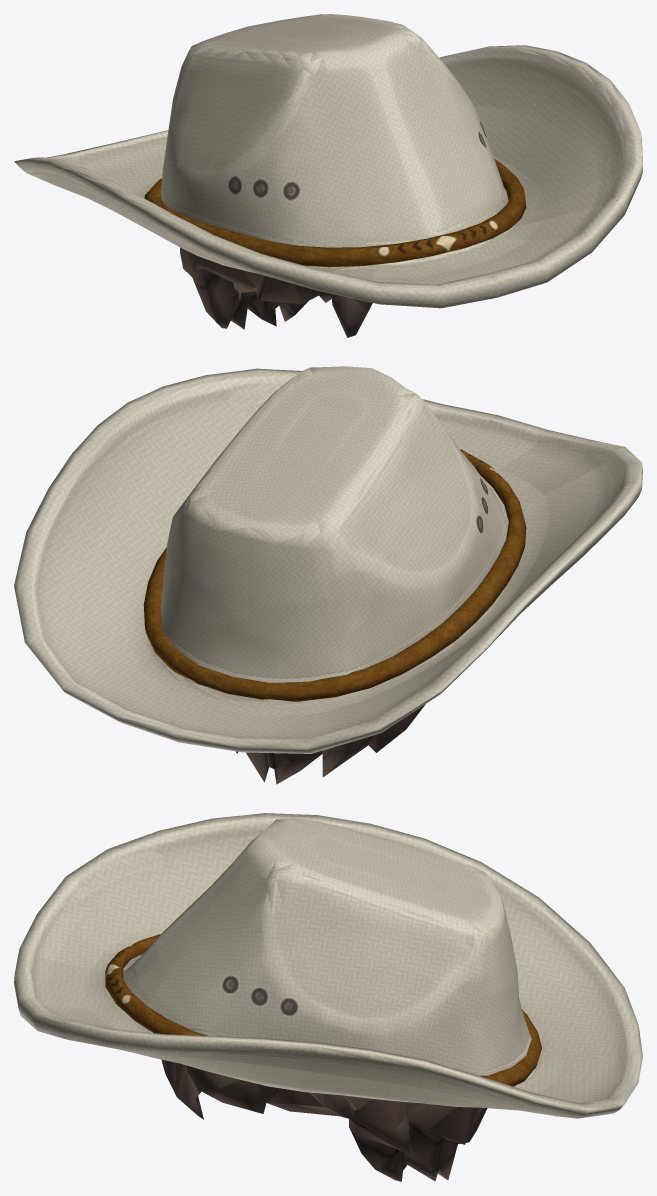
3 views of the same model, one above another, from view 1: azimuth 30°, elevation 25°; view 2: azimuth 150°, elevation 25°; view 3: azimuth 270°, elevation 25° (orthographic). The views are drawn at different scales.
Parts seen in each view (by area): view 1: Wolf3D_Headwear; view 2: Wolf3D_Headwear; view 3: Wolf3D_Headwear.
Part boxes in pixels (box(x1,y1,x2,y2)): Wolf3D_Headwear: box(14, 14, 642, 337); Wolf3D_Headwear: box(14, 366, 642, 784); Wolf3D_Headwear: box(14, 813, 642, 1181).
Size of the model in its own units: 0.334 by 0.2262 by 0.3825.
Materials: 1 (1 with a texture image).
